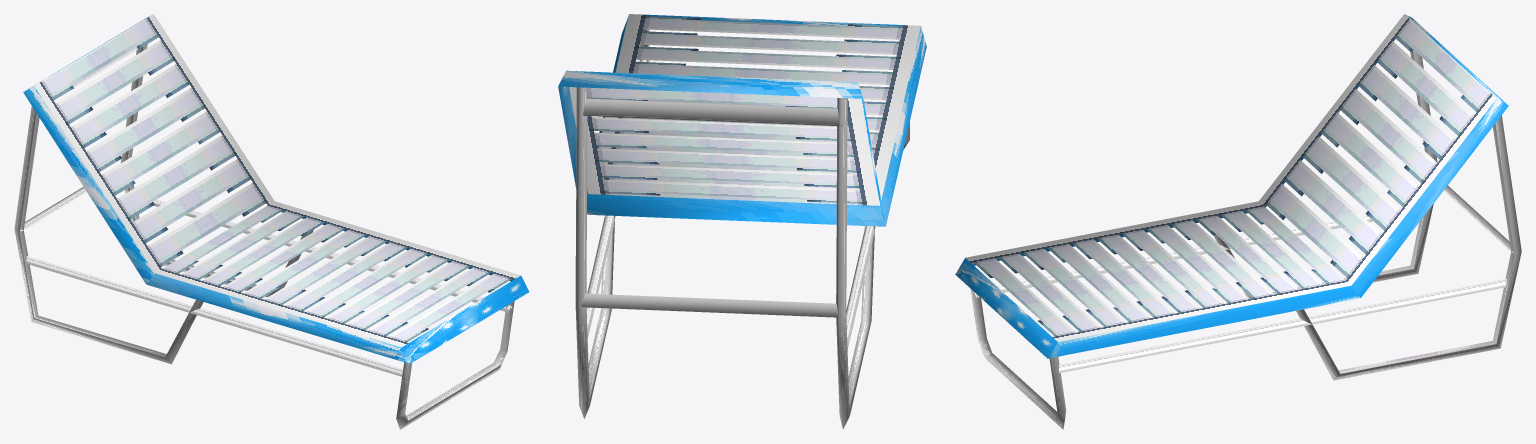
Rendered from Chair.obj.
The picture shows the model from 3 angles, left to right: view 1: azimuth 30°, elevation 25°; view 2: azimuth 150°, elevation 25°; view 3: azimuth 270°, elevation 25°; orthographic projection. The views are drawn at different scales.
Bounding box in the file's own units: 18.78 × 12.96 × 25.77.
